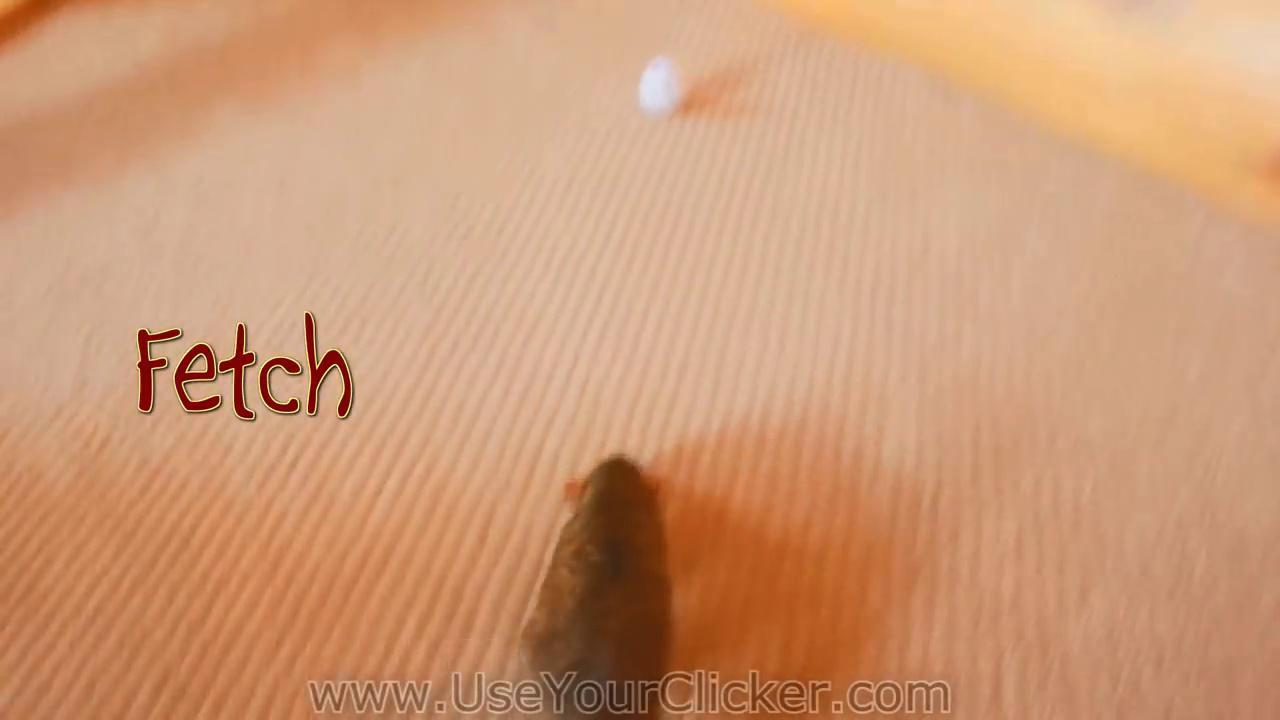rat: (515, 455, 674, 720)
